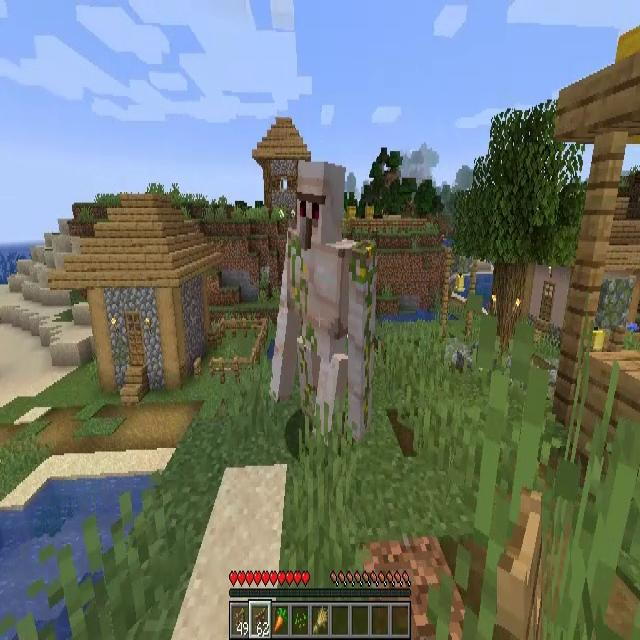people: (270, 162, 371, 444)
